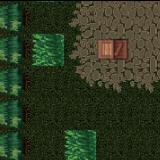Hide: (88, 27, 134, 70)
Obstacle: (0, 0, 31, 33), (0, 32, 31, 64), (0, 65, 31, 97), (0, 97, 31, 129), (0, 130, 31, 160)
Slow: (32, 33, 64, 66), (65, 130, 96, 160)
